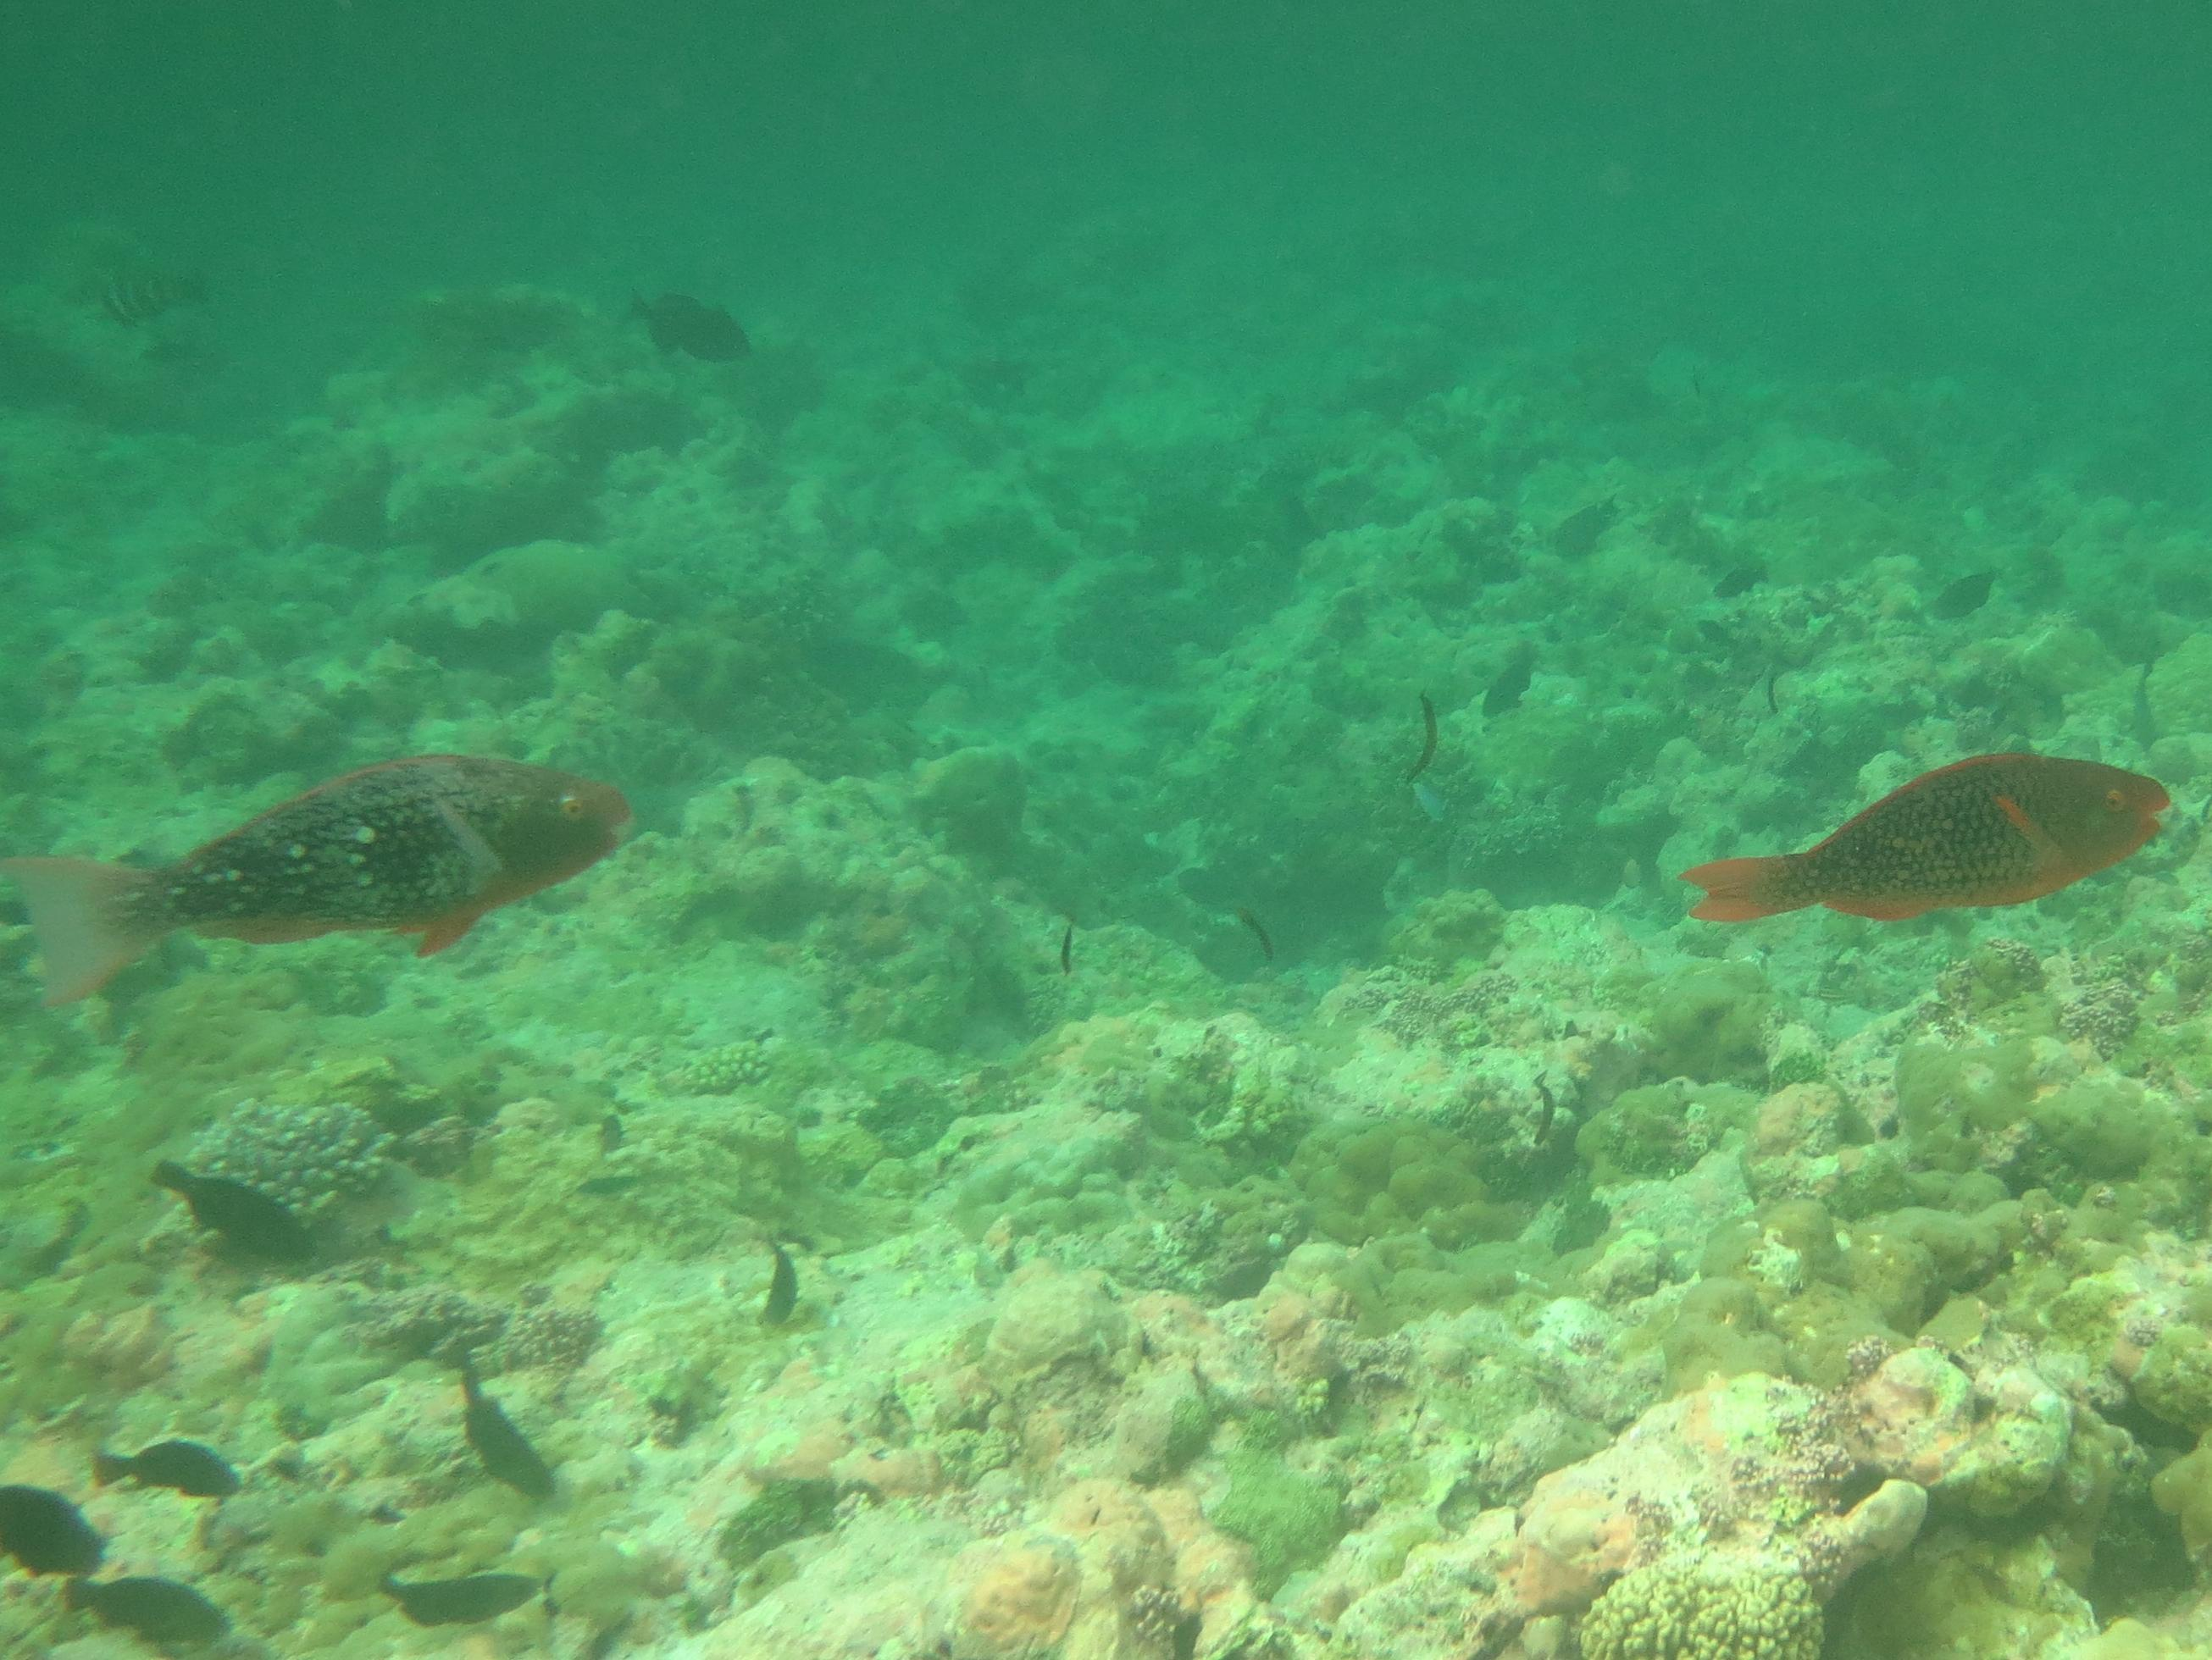Scarus rubroviolaceus: (1594, 675, 2212, 1048)
